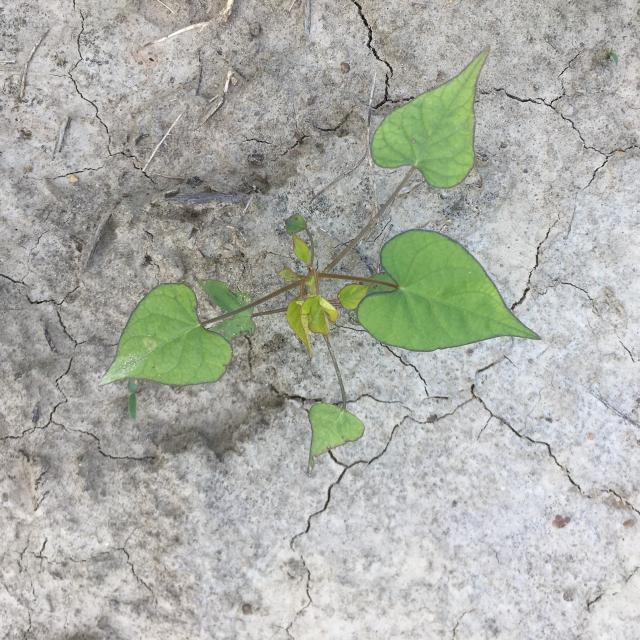MorningGlory: (97, 45, 543, 476)
